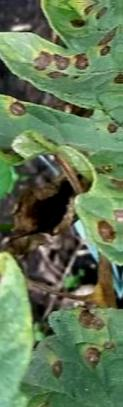Tomato Early blight leaf: (0, 0, 123, 281), (3, 296, 123, 407)
